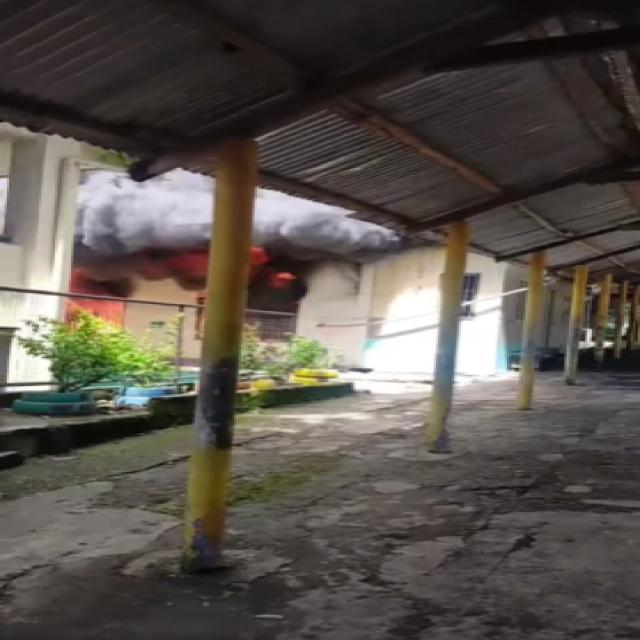Fire: (63, 276, 129, 321), (255, 243, 310, 295), (163, 252, 218, 282)
Smoke: (68, 177, 224, 278), (243, 182, 424, 259)
